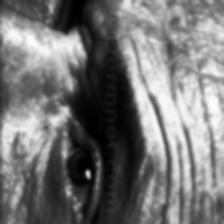Unclassified: (140, 0, 208, 224), (0, 57, 50, 224)
